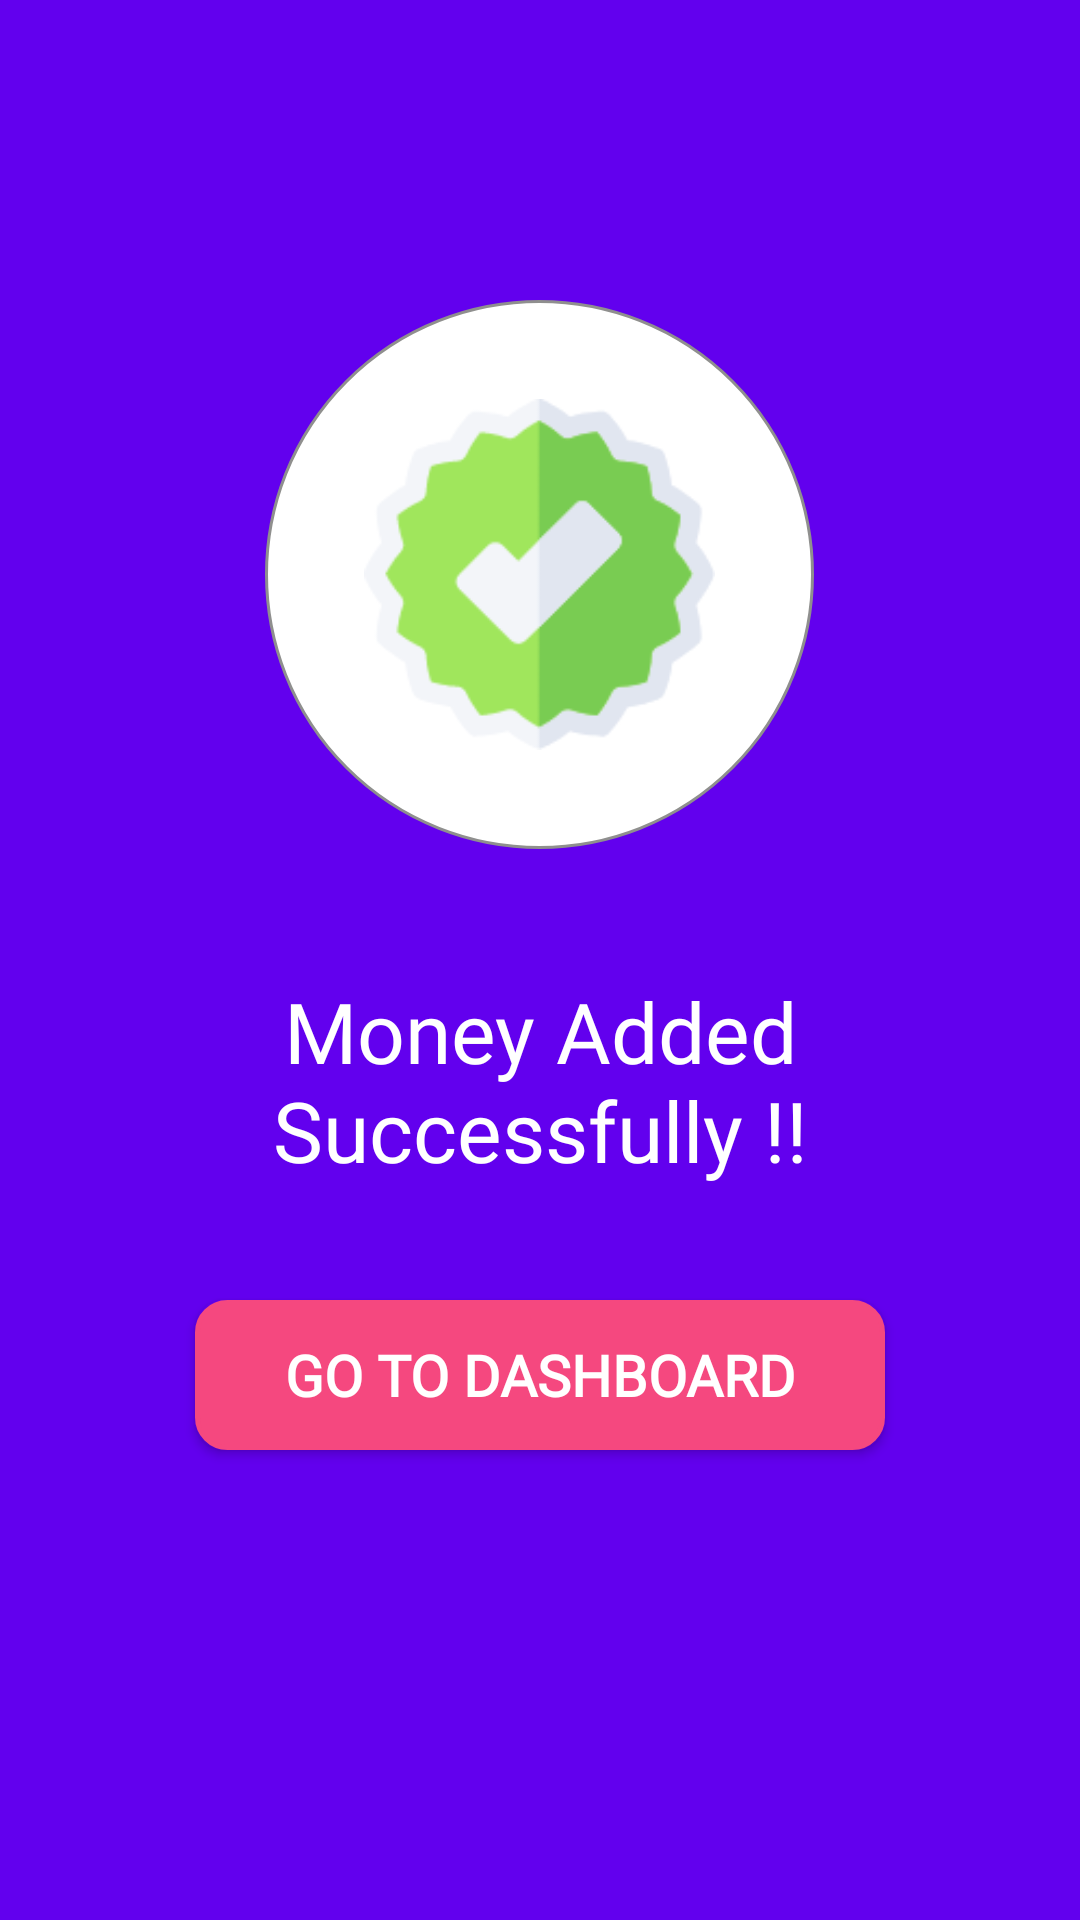

Where to tap for icons on this 1080x1920 app screen, as (x=x, y=y):
tick: (x=548, y=573)
